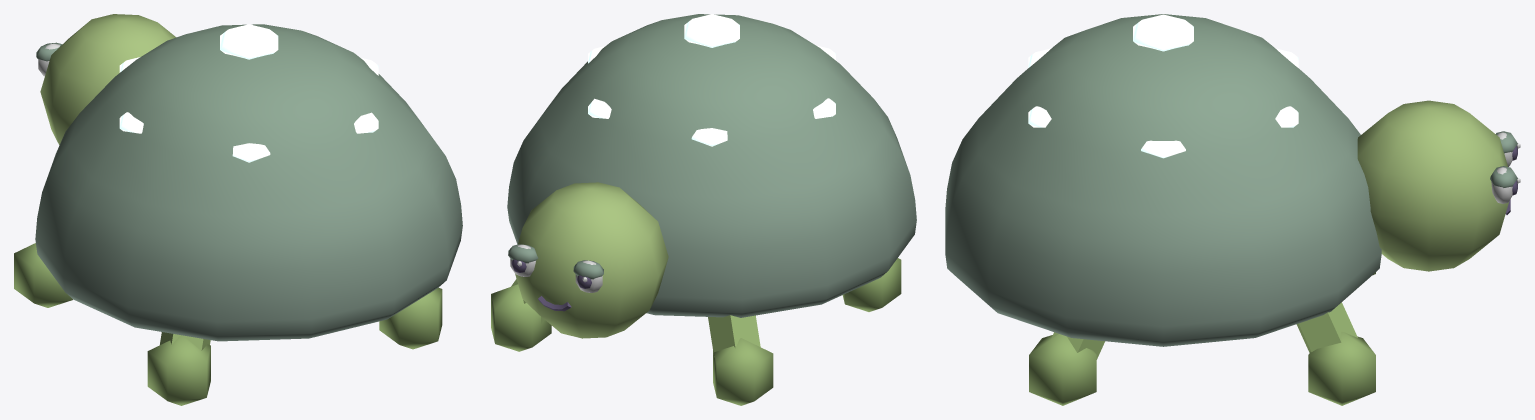
Rendered from art_e_turtle.glb.
3 renders of one model, left to right at view 1: azimuth 30°, elevation 25°; view 2: azimuth 150°, elevation 25°; view 3: azimuth 270°, elevation 25°, orthographic. The views are drawn at different scales.
Visible parts, largest first — view 1: Body, Limb, Head, Glow_7CFF9E, Eye; view 2: Body, Head, Limb, Glow_7CFF9E, Eye; view 3: Body, Head, Limb, Glow_7CFF9E, Eye.
Part boxes in pixels (left/top/right/bottom): Body: left=35, top=24, right=462, bottom=341; Limb: left=14, top=243, right=442, bottom=405; Head: left=40, top=14, right=176, bottom=144; Glow_7CFF9E: left=119, top=24, right=378, bottom=162; Eye: left=36, top=42, right=62, bottom=76; Body: left=507, top=14, right=916, bottom=317; Head: left=515, top=182, right=668, bottom=338; Limb: left=491, top=258, right=901, bottom=405; Glow_7CFF9E: left=588, top=14, right=835, bottom=146; Eye: left=508, top=244, right=603, bottom=292; Body: left=945, top=14, right=1381, bottom=346; Head: left=1357, top=100, right=1509, bottom=271; Limb: left=1029, top=272, right=1375, bottom=405; Glow_7CFF9E: left=1028, top=14, right=1298, bottom=158; Eye: left=1490, top=131, right=1520, bottom=203.
Size of the model in its own units: 3.44 by 2.76 by 4.43.
